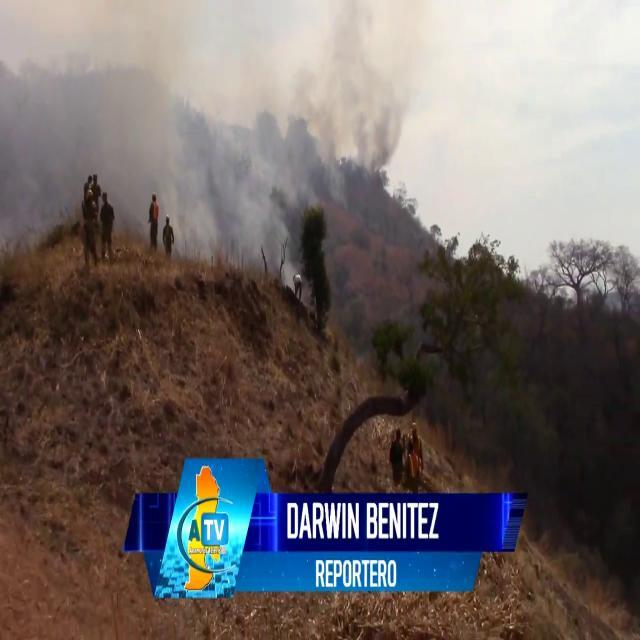Smoke: (0, 0, 441, 292)
